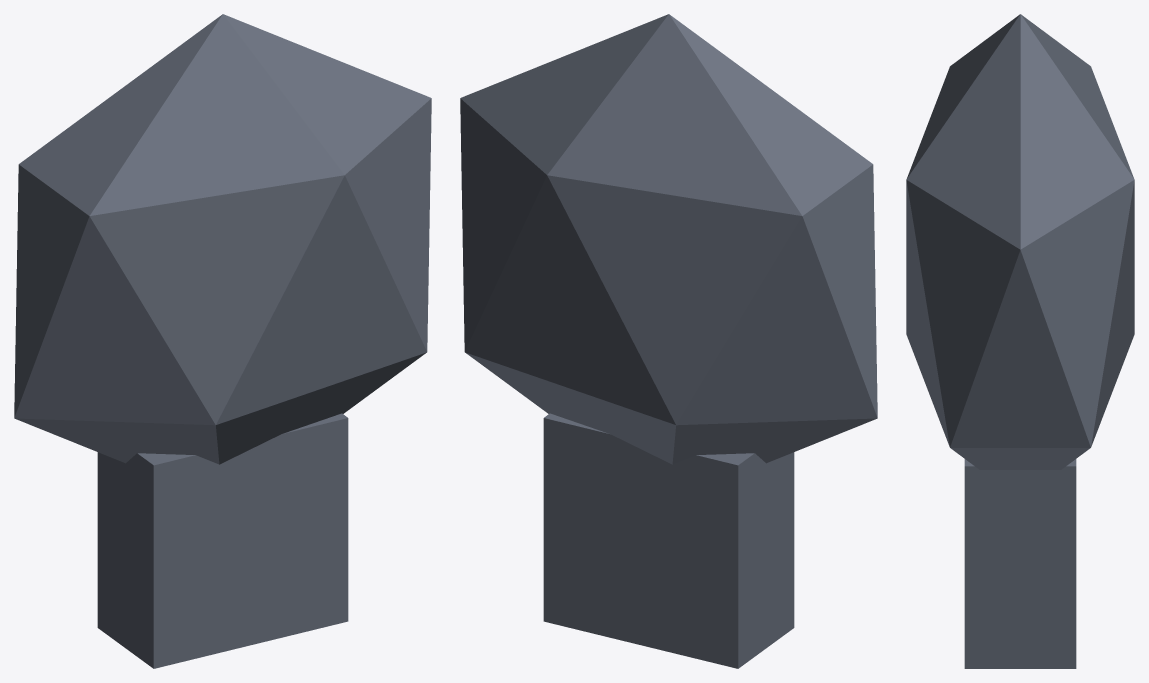
File: comms_dish.glb
3 views of the same model, side by side, from view 1: azimuth 30°, elevation 25°; view 2: azimuth 150°, elevation 25°; view 3: azimuth 270°, elevation 25° (orthographic).
Visible parts, largest first — view 1: plate, base; view 2: plate, base; view 3: plate, base.
Part boxes in pixels (x1,y1,x2,y2): plate: [14, 14, 431, 464]; base: [97, 413, 348, 668]; plate: [460, 14, 877, 464]; base: [543, 413, 794, 668]; plate: [906, 14, 1134, 469]; base: [964, 459, 1076, 668].
Size of the model in its own units: 1.29 by 1.8 by 0.6125.
